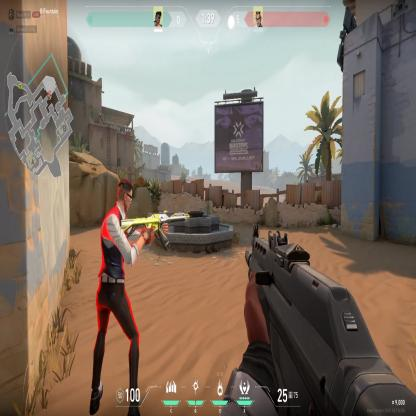enemy: (91, 176, 144, 416)
